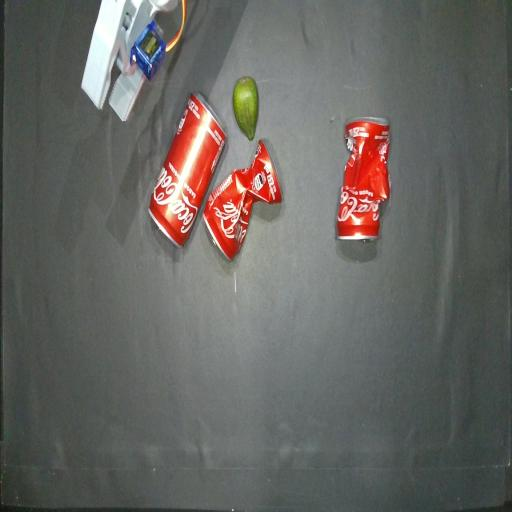higo: (233, 77, 258, 139)
lata: (149, 92, 226, 247)
lata_defectuoso: (203, 140, 282, 260), (336, 118, 390, 240)
